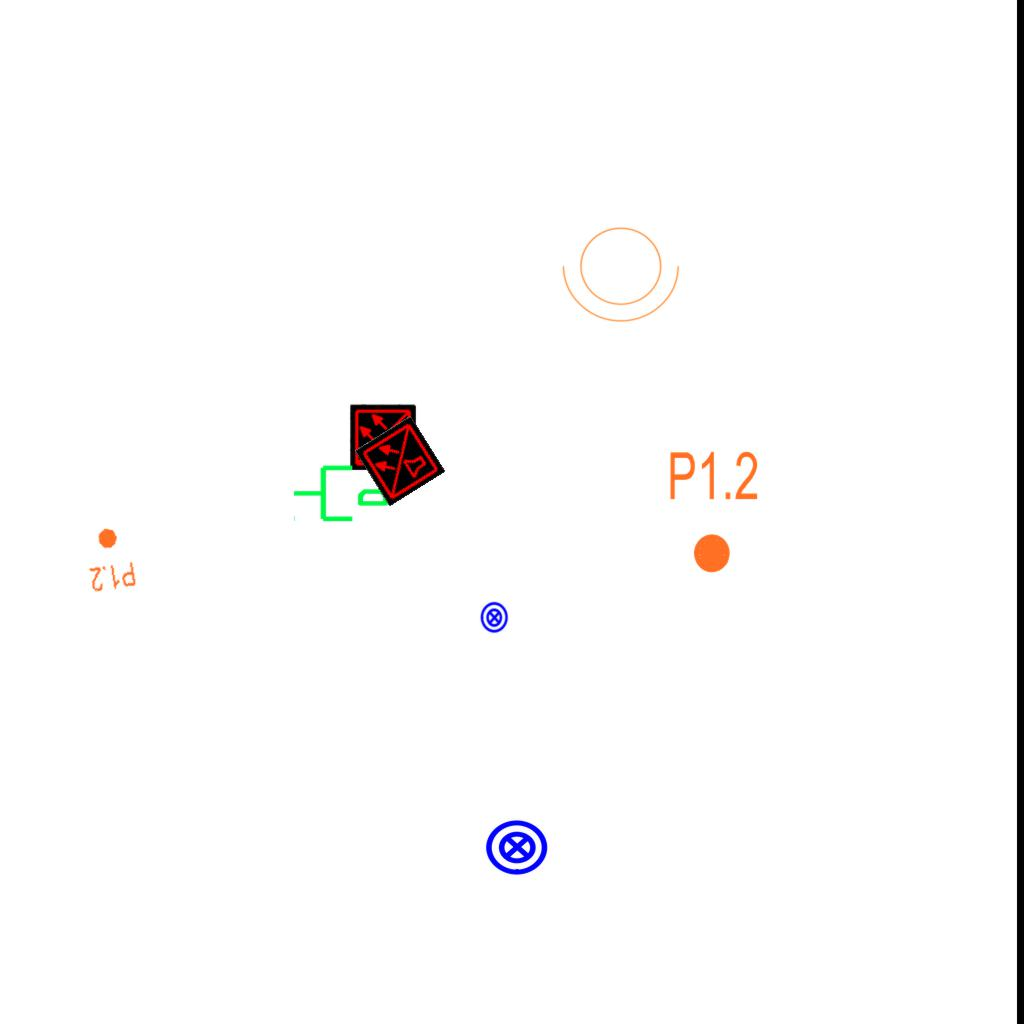Datenanschluss_einfach: (291, 457, 391, 526)
Downlight_LED_Einbauleuchten_Flur: (667, 448, 760, 576), (82, 523, 138, 595)
OKW_Multisensormelder_(Kombination_optischer_Rauch-Kahlenmonoxid_Waerme-Melder): (354, 415, 446, 507), (350, 404, 416, 470)
Scheinwerfer_fuer_Alarmbeleuchtung: (558, 215, 690, 327)
Taster_beleuchtet: (484, 814, 550, 880), (478, 601, 511, 634)
